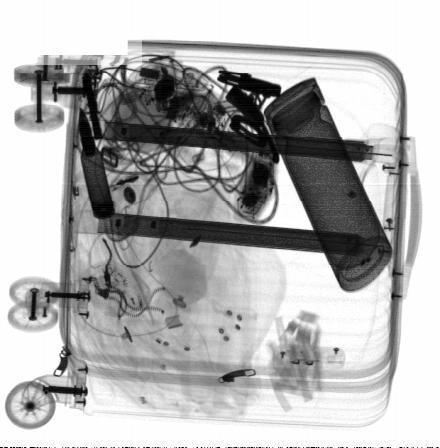Bullet: (77, 106, 116, 220)
Gun: (166, 93, 195, 121)
HandCuffs: (216, 69, 283, 164)
